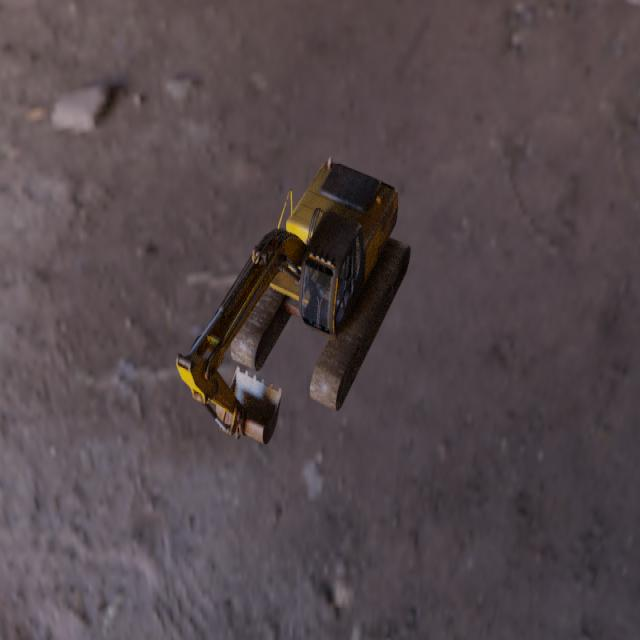excavator: (175, 156, 411, 444)
